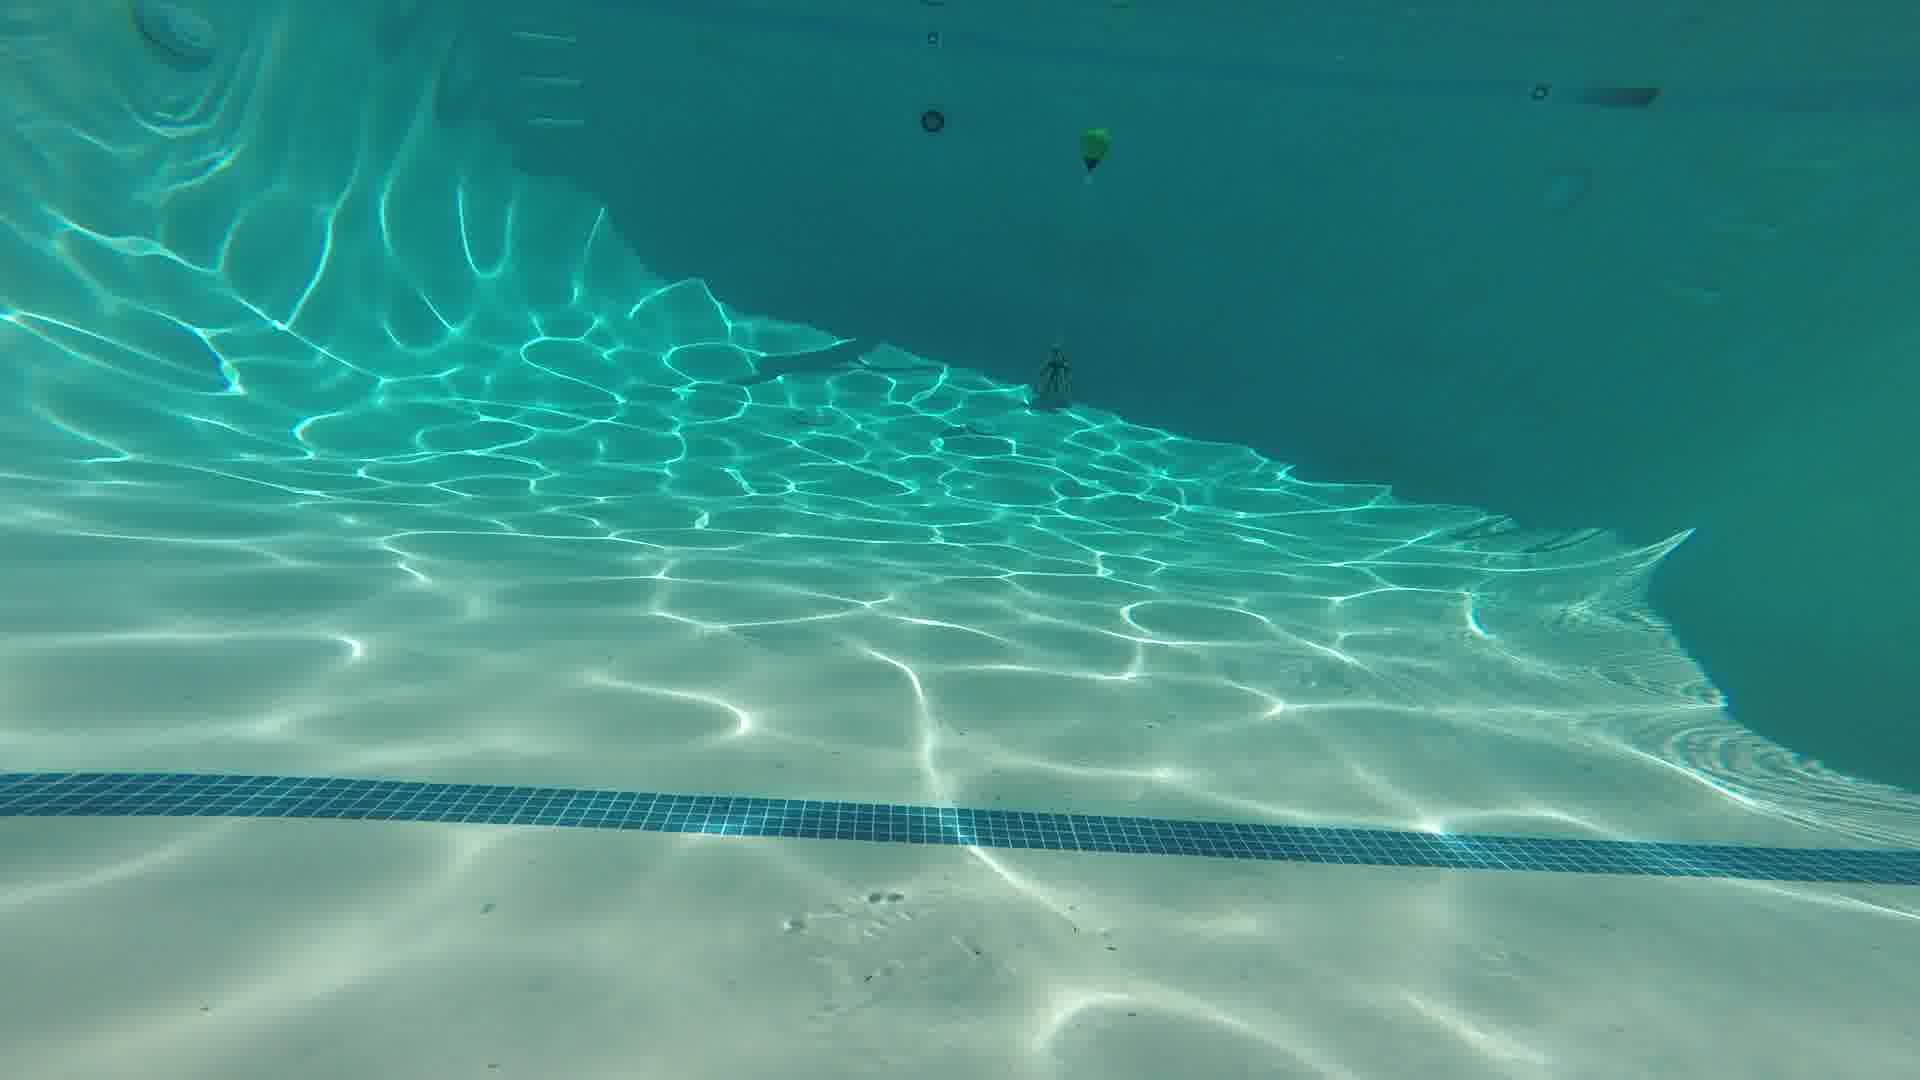yellow_buoy: (1076, 119, 1113, 182)
